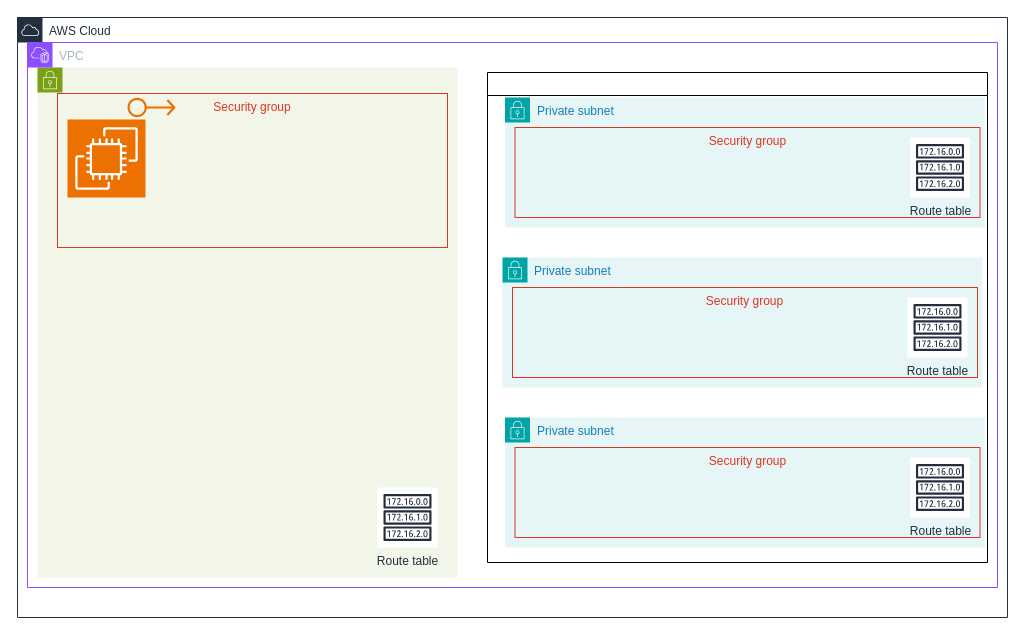
This 1025x635 diagram has some shape labels left out. The box of each missing label's shape, as (x1, y1, x2, y2) in pixels:
DB subnet group: (486, 72, 988, 562)
Jump Host: (66, 118, 146, 198)
Public subnet: (36, 66, 458, 578)
